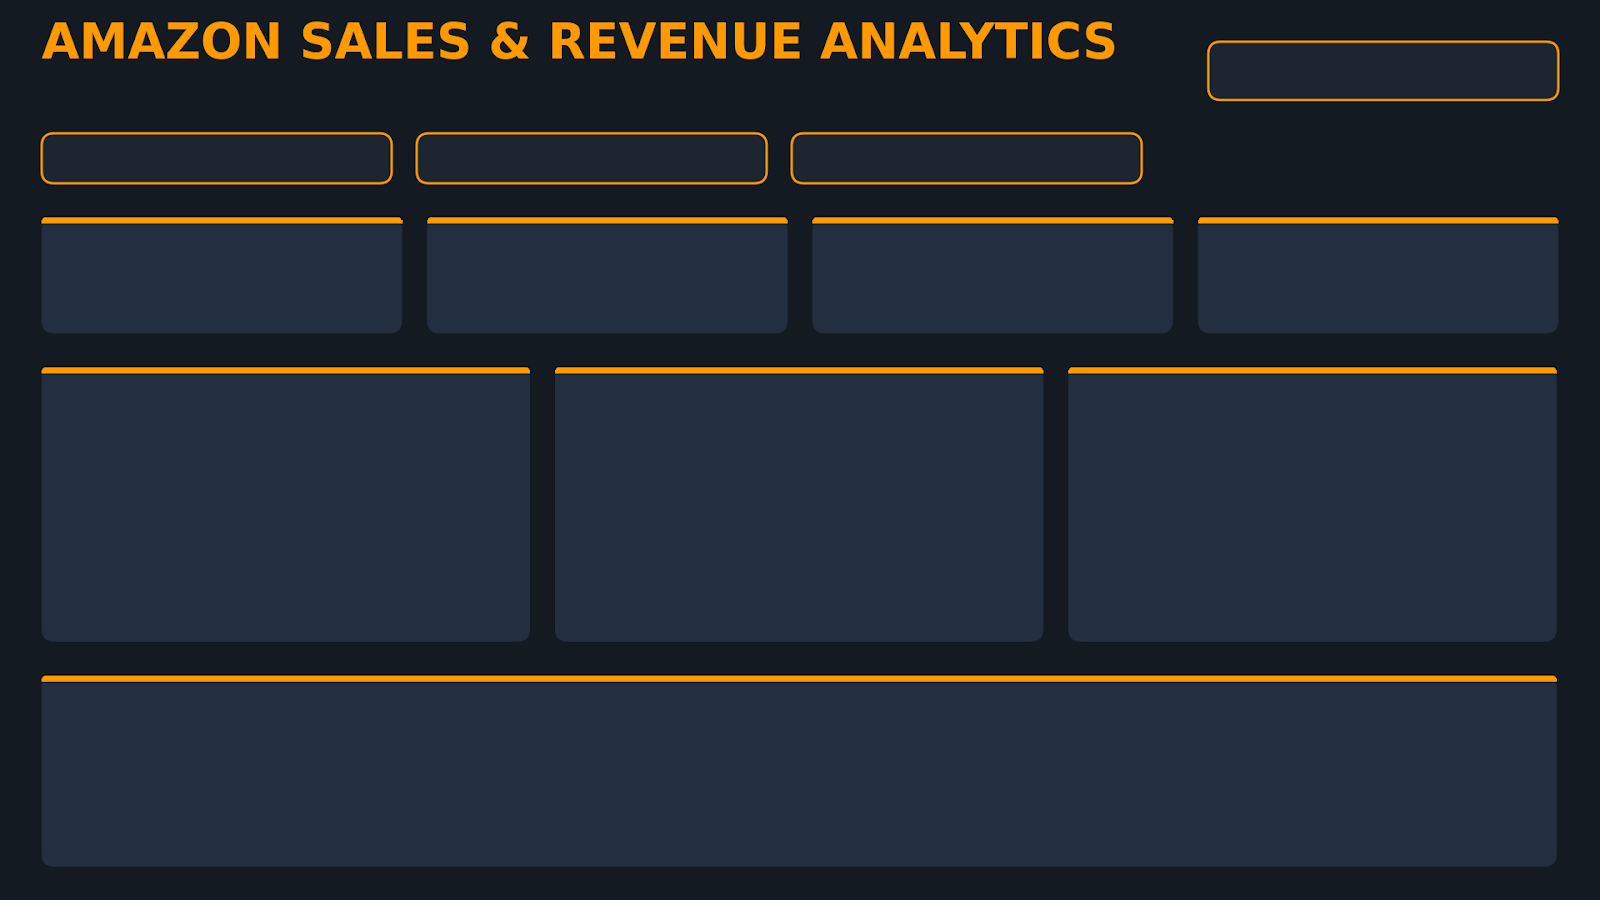

What the dashboard file says about the page in this screenshot:
{"tool":"powerbi","page":{"name":"Page 1","canvas":[1920,1080],"ordinal":0},"visuals":[{"type":"cardVisual","fields":{"Data":["amazon_sales.Total Revenue"]},"box":[64,272,405,119],"z":0},{"type":"cardVisual","fields":{"Data":["amazon_sales.Total Units Sold"]},"box":[528,272,405,119],"z":1000},{"type":"cardVisual","fields":{"Data":["amazon_sales.Average Discount %"]},"box":[1456,272,405,119],"z":2000},{"type":"cardVisual","fields":{"Data":["amazon_sales.Average Rating"]},"box":[992,272,405,119],"z":3000},{"type":"clusteredBarChart","title":"Top 5 Revenue by product_category","fields":{"Y":["amazon_sales.Total Revenue"],"Category":["amazon_sales.product_category"]},"box":[72,456,552,312],"z":4000},{"type":"slicer","title":"PRODUCTS","fields":{"Values":["amazon_sales.product_category"]},"box":[64,112,400,96],"z":5000},{"type":"donutChart","title":"Revenue By Price Tier","fields":{"Category":["amazon_sales.Price Tier"],"Y":["amazon_sales.Total Revenue"]},"box":[672,464,576,320],"z":6000},{"type":"pieChart","title":"ORGANIC VS SPONSORED","fields":{"Category":["amazon_sales.is_sponsored"],"Y":["amazon_sales.Total Revenue"]},"box":[1296,448,552,312],"z":7000},{"type":"slicer","fields":{"Values":["amazon_sales.data_collected_at"]},"box":[1456,48,400,64],"z":8000},{"type":"tableEx","fields":{"Values":["amazon_sales.product_category","amazon_sales.Total Revenue","Sum(amazon_sales.Discount Amount)","Sum(amazon_sales.product_rating)"]},"box":[48,816,576,264],"z":9000},{"type":"stackedAreaChart","title":"Sales Trend per Day ","fields":{"Category":["amazon_sales.delivery_date.Variation.Date Hierarchy.Day"],"Y":["amazon_sales.Total Revenue"]},"box":[704,816,576,216],"z":10000},{"type":"slicer","title":"BEST_SELLER","fields":{"Values":["amazon_sales.is_best_seller"]},"box":[512,112,400,112],"z":11000},{"type":"slicer","title":"SUSTAINABILITY WISE PRODUCTS","fields":{"Values":["amazon_sales.sustainability_tags"]},"box":[960,120,400,112],"z":12000},{"type":"clusteredColumnChart","title":"Revenue By Products","fields":{"Category":["amazon_sales.product_title"],"Y":["amazon_sales.Total Revenue"]},"box":[1344,816,504,216],"z":13000}]}

Visuals, with their boxes in screenshot pixels (x1, y1, x2, y2), scaled from the page's 1920x1080 canvas onto the 1600x900 screenshot:
cardVisual - amazon_sales.Total Revenue: box=[53, 227, 391, 326]
cardVisual - amazon_sales.Total Units Sold: box=[440, 227, 778, 326]
cardVisual - amazon_sales.Average Discount %: box=[1213, 227, 1551, 326]
cardVisual - amazon_sales.Average Rating: box=[827, 227, 1164, 326]
"Top 5 Revenue by product_category" clusteredBarChart: box=[60, 380, 520, 640]
"PRODUCTS" slicer: box=[53, 93, 387, 173]
"Revenue By Price Tier" donutChart: box=[560, 387, 1040, 653]
"ORGANIC VS SPONSORED" pieChart: box=[1080, 373, 1540, 633]
slicer - amazon_sales.data_collected_at: box=[1213, 40, 1547, 93]
tableEx - amazon_sales.product_category x amazon_sales.Total Revenue: box=[40, 680, 520, 899]
"Sales Trend per Day " stackedAreaChart: box=[587, 680, 1067, 860]
"BEST_SELLER" slicer: box=[427, 93, 760, 187]
"SUSTAINABILITY WISE PRODUCTS" slicer: box=[800, 100, 1133, 193]
"Revenue By Products" clusteredColumnChart: box=[1120, 680, 1540, 860]
